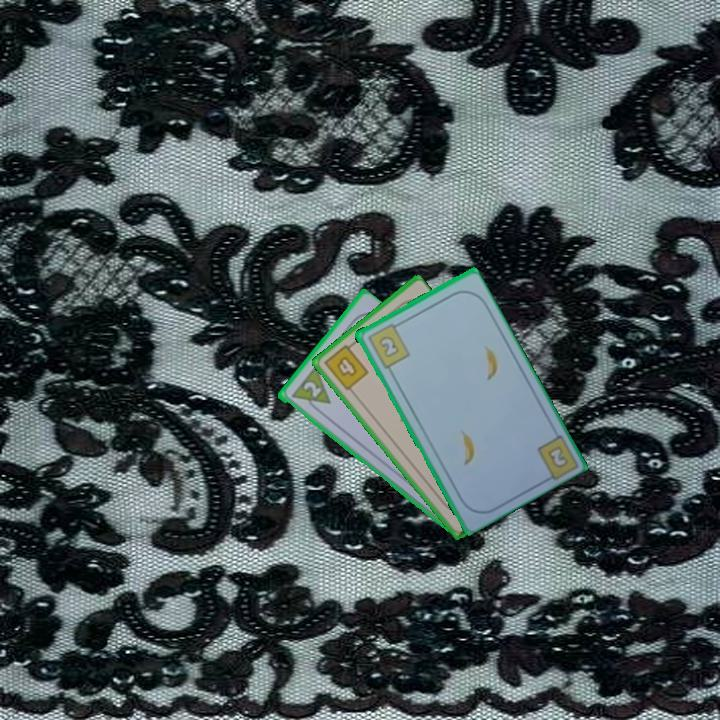2b: (363, 319, 412, 371), (543, 442, 571, 471)
2p: (287, 364, 333, 417)
4b: (320, 338, 372, 393)
